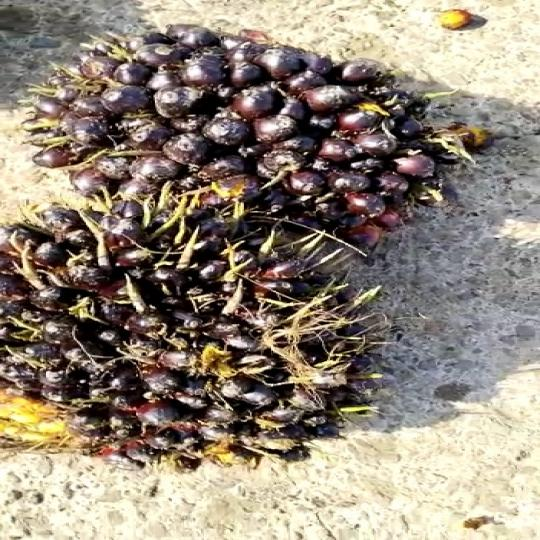mentah: (0, 189, 387, 484), (16, 12, 486, 224)
